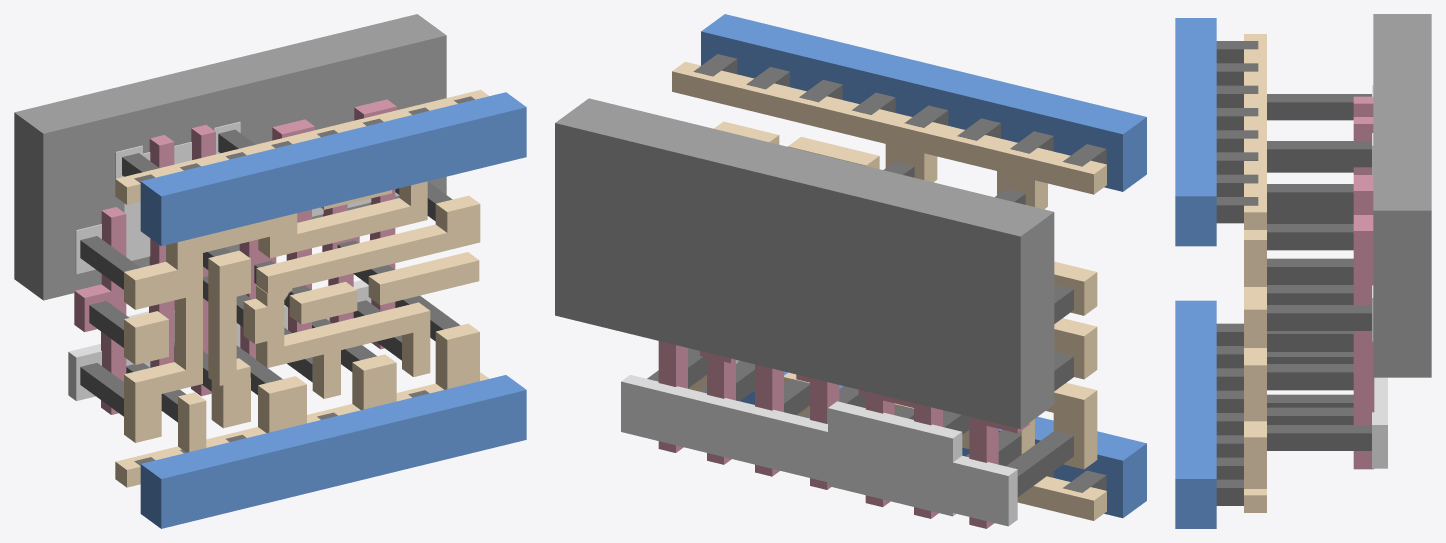
Rendered from sky130_fd_sc_hd__or4b_2.gds.gltf.
3 views of the same model, side by side, from view 1: azimuth 30°, elevation 25°; view 2: azimuth 150°, elevation 25°; view 3: azimuth 270°, elevation 25° (orthographic). The views are drawn at different scales.
Visible parts, largest first — view 1: sky130_fd_sc_hd__or4b_2_li1, sky130_fd_sc_hd__or4b_2_met1, sky130_fd_sc_hd__or4b_2_nwell, sky130_fd_sc_hd__or4b_2_licon, sky130_fd_sc_hd__or4b_2_poly, sky130_fd_sc_hd__or4b_2_diff, sky130_fd_sc_hd__or4b_2_mcon; view 2: sky130_fd_sc_hd__or4b_2_nwell, sky130_fd_sc_hd__or4b_2_met1, sky130_fd_sc_hd__or4b_2_diff, sky130_fd_sc_hd__or4b_2_li1, sky130_fd_sc_hd__or4b_2_poly, sky130_fd_sc_hd__or4b_2_licon, sky130_fd_sc_hd__or4b_2_mcon; view 3: sky130_fd_sc_hd__or4b_2_licon, sky130_fd_sc_hd__or4b_2_nwell, sky130_fd_sc_hd__or4b_2_met1, sky130_fd_sc_hd__or4b_2_mcon, sky130_fd_sc_hd__or4b_2_li1, sky130_fd_sc_hd__or4b_2_poly, sky130_fd_sc_hd__or4b_2_diff.
Part boxes in pixels (x1=…): sky130_fd_sc_hd__or4b_2_li1: x1=115, y1=90, x2=489, y2=487; sky130_fd_sc_hd__or4b_2_met1: x1=140, y1=92, x2=526, y2=528; sky130_fd_sc_hd__or4b_2_nwell: x1=14, y1=14, x2=446, y2=300; sky130_fd_sc_hd__or4b_2_licon: x1=80, y1=129, x2=460, y2=422; sky130_fd_sc_hd__or4b_2_poly: x1=74, y1=99, x2=396, y2=414; sky130_fd_sc_hd__or4b_2_diff: x1=68, y1=121, x2=399, y2=400; sky130_fd_sc_hd__or4b_2_mcon: x1=134, y1=96, x2=474, y2=465; sky130_fd_sc_hd__or4b_2_nwell: x1=555, y1=98, x2=1054, y2=428; sky130_fd_sc_hd__or4b_2_met1: x1=701, y1=14, x2=1146, y2=518; sky130_fd_sc_hd__or4b_2_diff: x1=621, y1=374, x2=1017, y2=526; sky130_fd_sc_hd__or4b_2_li1: x1=672, y1=61, x2=1106, y2=520; sky130_fd_sc_hd__or4b_2_poly: x1=658, y1=341, x2=1029, y2=528; sky130_fd_sc_hd__or4b_2_licon: x1=647, y1=161, x2=1073, y2=496; sky130_fd_sc_hd__or4b_2_mcon: x1=693, y1=54, x2=1106, y2=492; sky130_fd_sc_hd__or4b_2_licon: x1=1267, y1=94, x2=1371, y2=450; sky130_fd_sc_hd__or4b_2_nwell: x1=1373, y1=14, x2=1431, y2=377; sky130_fd_sc_hd__or4b_2_met1: x1=1175, y1=18, x2=1216, y2=528; sky130_fd_sc_hd__or4b_2_mcon: x1=1216, y1=41, x2=1258, y2=505; sky130_fd_sc_hd__or4b_2_li1: x1=1244, y1=34, x2=1266, y2=512; sky130_fd_sc_hd__or4b_2_poly: x1=1353, y1=96, x2=1374, y2=469; sky130_fd_sc_hd__or4b_2_diff: x1=1372, y1=85, x2=1387, y2=468.
Size of the model in its own units: 4.06 by 3.2 by 2.24.
